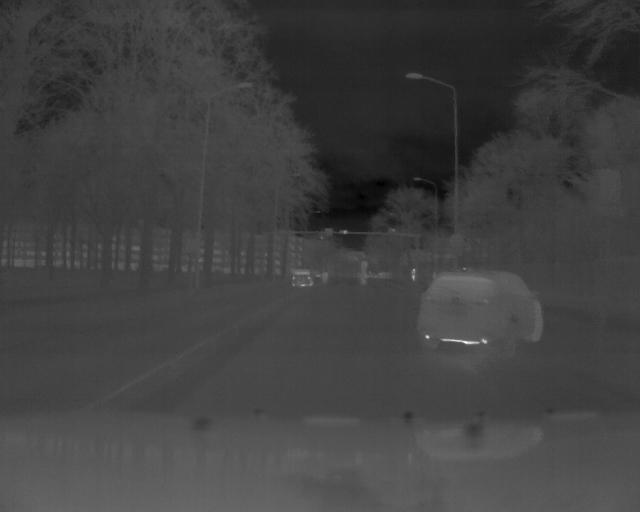car: (414, 272, 546, 355), (292, 268, 314, 288)
